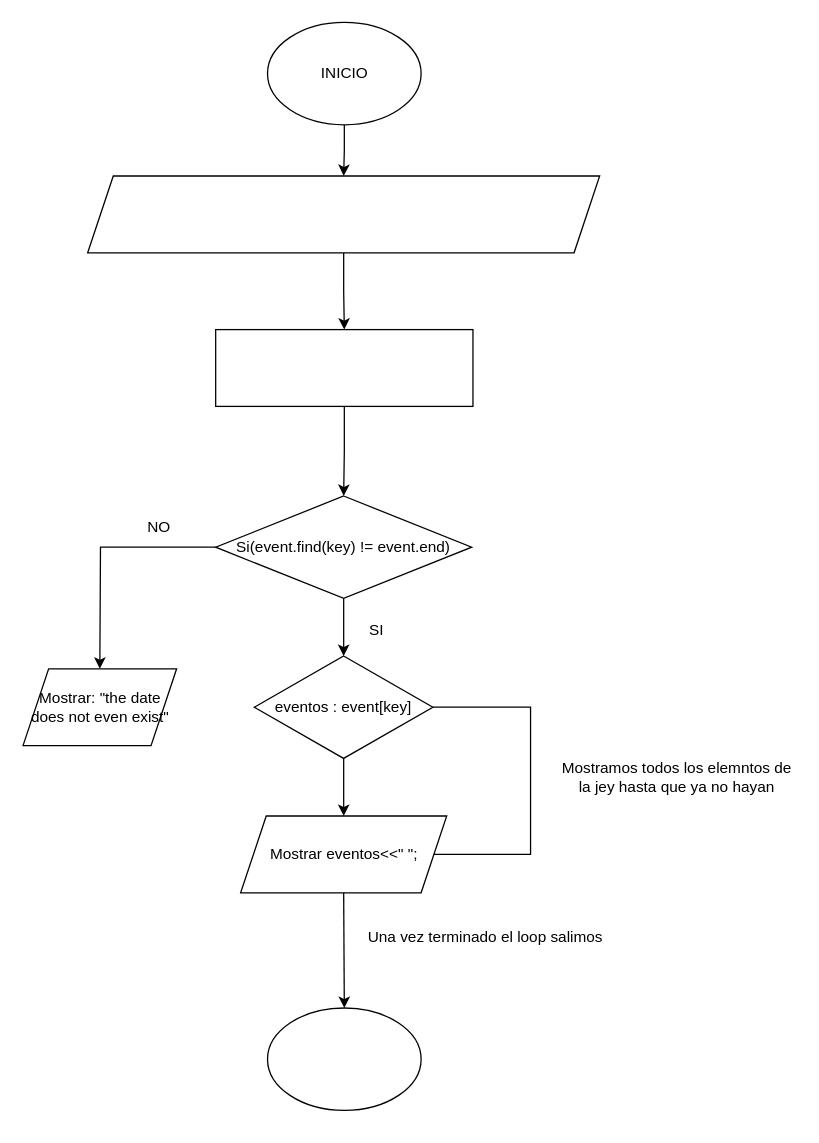
Image size: 819x1143. Some labels were removed from this diagram. The box of each missing label's shape, as (x1, y1, x2, y2) in pixels:
Entrada: vector<datos>persona, map<string, vector<string>> event, int i: (86, 175, 600, 253)
Return: (266, 1007, 421, 1110)
string key = persona[i].user_date: (214, 328, 473, 406)
